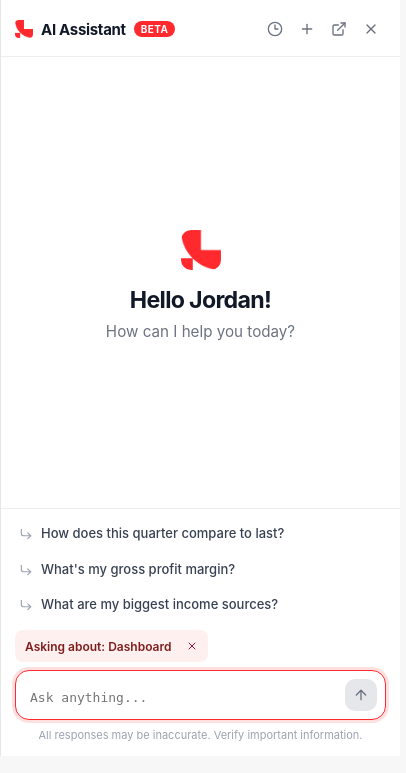
AiAssistant › renders open invoice rows as a table and does not signal
In the text box named "Ask the AI assistant": (182, 699) x1=28 y1=687 x2=337 y2=711, type "Show my open invoices in a table"
Then press Enter
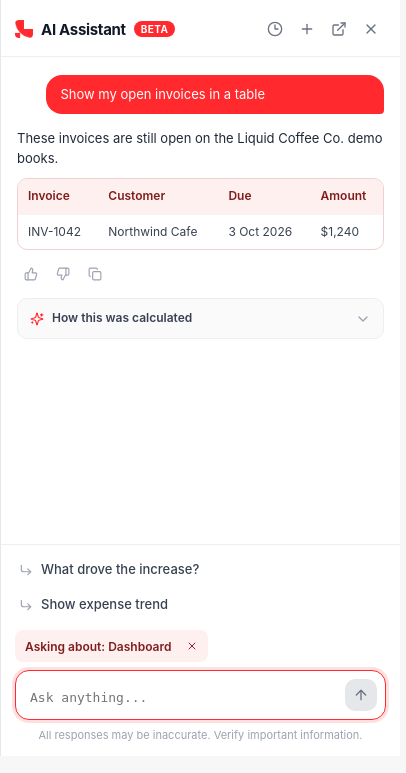
Now the cell "INV-1042" is shown, box x1=18 y1=214 x2=98 y2=249
Now the column heading "Invoice" is shown, box x1=18 y1=179 x2=98 y2=214
